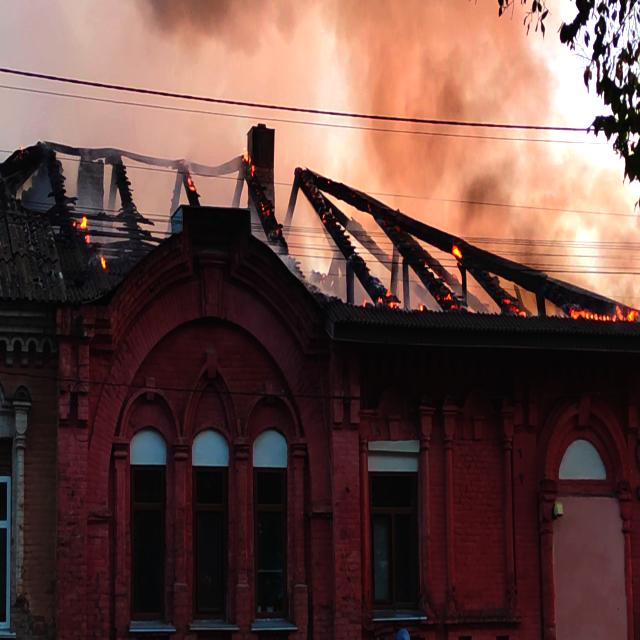fire: (553, 290, 640, 332), (238, 147, 277, 223), (79, 212, 121, 280), (444, 233, 470, 279), (179, 166, 201, 208)
smoke: (358, 0, 542, 230)
